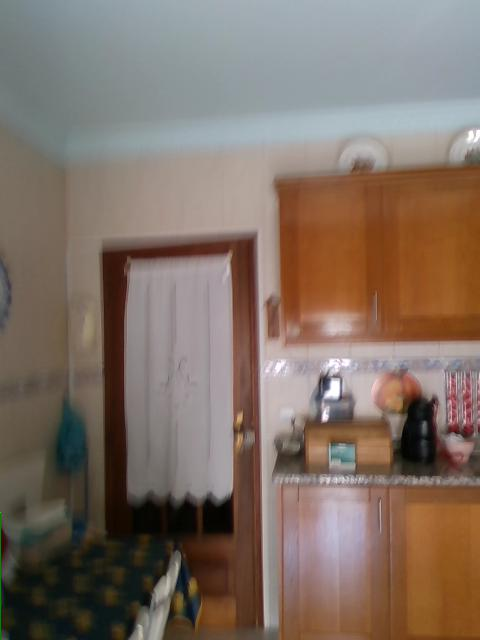closed_door: (103, 229, 260, 639)
